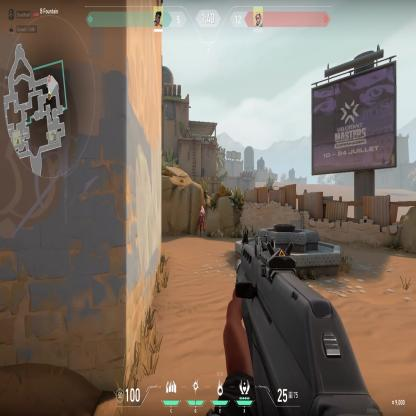enemy: (198, 203, 206, 238)
